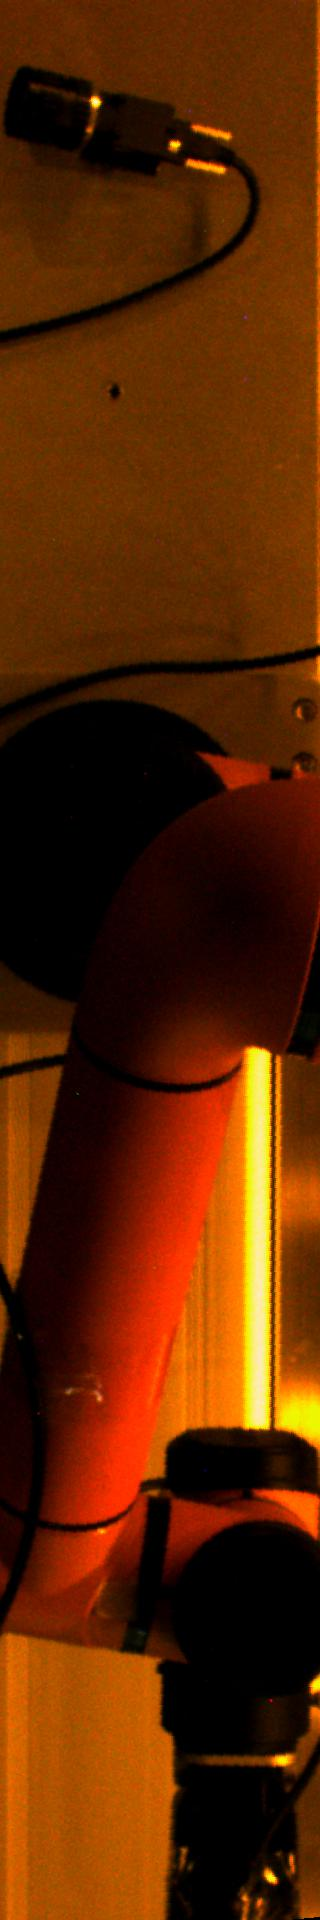keyPoint_2: (99, 378, 129, 408)
